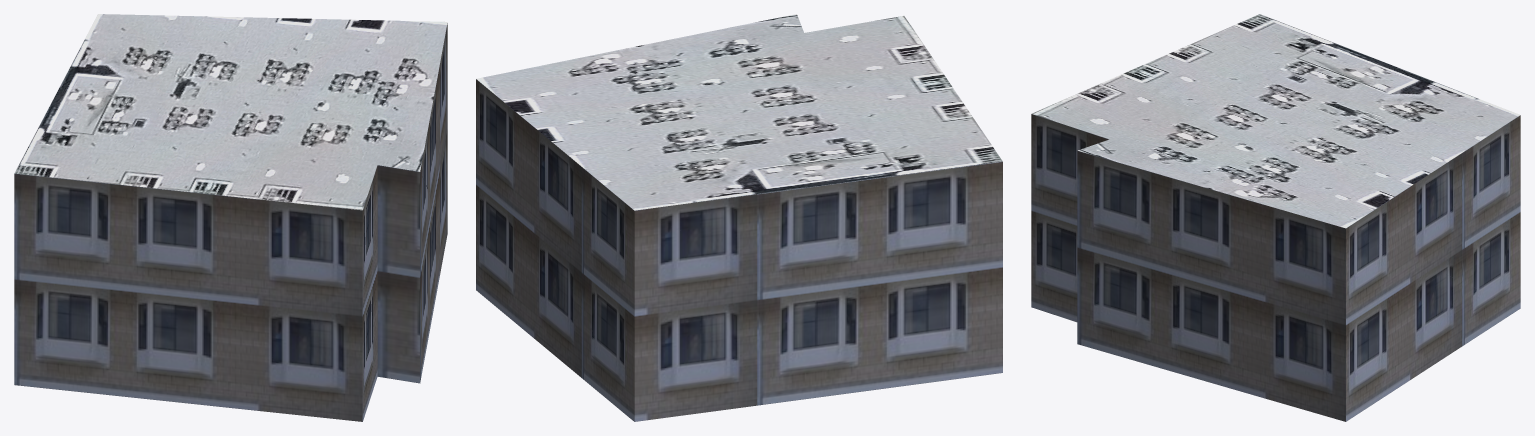
Rendered from ResTex__4899.fbx.
3 views of the same model, side by side, from view 1: azimuth 30°, elevation 25°; view 2: azimuth 150°, elevation 25°; view 3: azimuth 270°, elevation 25° (orthographic). The views are drawn at different scales.
Visible parts, largest first — view 1: CityEngineMaterial_3_m, CityEngineMaterial_4_m; view 2: CityEngineMaterial_3_m, CityEngineMaterial_4_m; view 3: CityEngineMaterial_3_m, CityEngineMaterial_4_m.
Part boxes in pixels (<box>): CityEngineMaterial_3_m: <box>14,23,447,421</box>; CityEngineMaterial_4_m: <box>14,14,447,210</box>; CityEngineMaterial_3_m: <box>476,79,1002,421</box>; CityEngineMaterial_4_m: <box>476,14,1002,210</box>; CityEngineMaterial_3_m: <box>1031,114,1520,421</box>; CityEngineMaterial_4_m: <box>1031,14,1519,228</box>.
Bounding box in the file's own units: 14.26 × 6 × 13.75.
2 materials, 2 textured.
